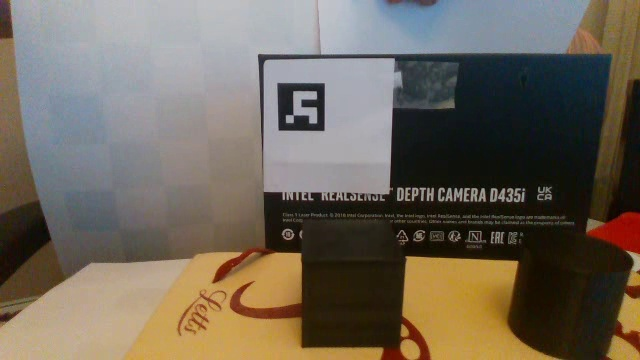cube: (293, 213, 410, 354)
cylindre: (498, 221, 638, 360)
